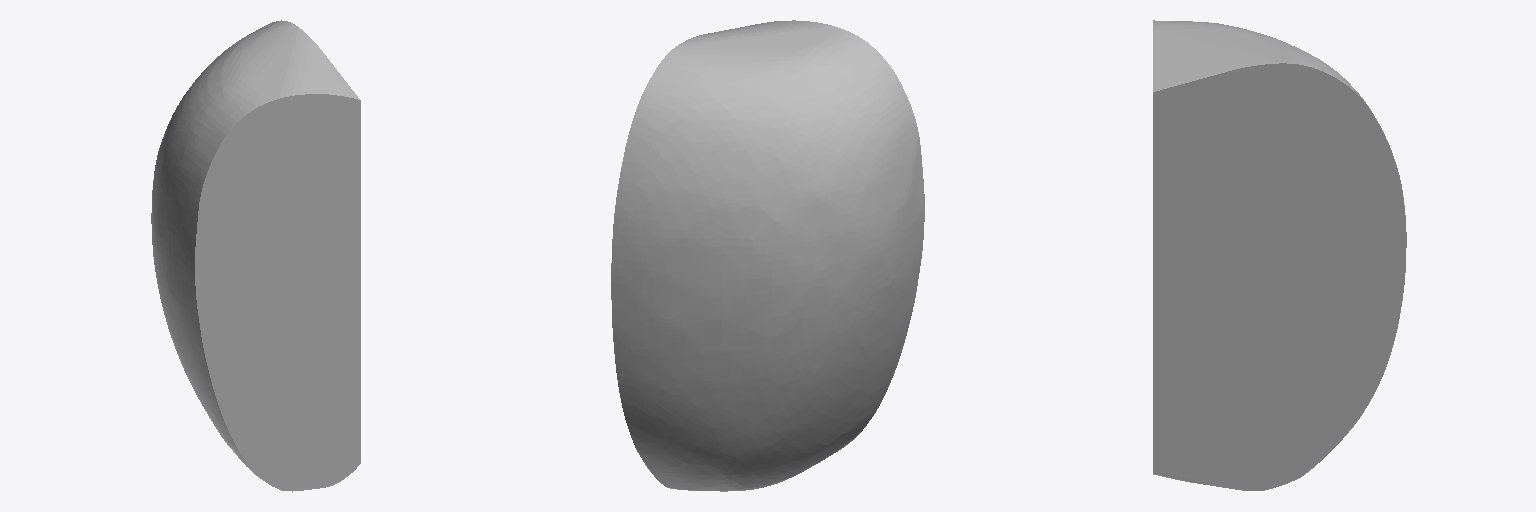
The robot description file, URDF, robot "root":
<robot name="root">
  <link name="link_convex_piece_0">
    <inertial>
      <origin xyz="0 0 0" rpy="0 0 0"/>
      <inertia ixx="5.31E-06" ixy="-8.89E-09" ixz="1.43E-07" iyy="3.85E-06" iyz="8.88E-08" izz="2.06E-06"/>
    </inertial>
    <visual>
      <origin xyz="0 0 0" rpy="0 0 0"/>
      <geometry>
        <mesh filename="convex_piece_0.obj" scale="1.0000E+00 1.0000E+00 1.0000E+00"/>
      </geometry>
      <material name="">
        <color rgba="7.50E-01 7.50E-01 7.50E-01 1"/>
      </material>
    </visual>
    <collision>
      <origin xyz="0 0 0" rpy="0 0 0"/>
      <geometry>
        <mesh filename="convex_piece_0.obj" scale="1.0000E+00 1.0000E+00 1.0000E+00"/>
      </geometry>
    </collision>
  </link>
  <link name="link_convex_piece_1">
    <inertial>
      <origin xyz="0 0 0" rpy="0 0 0"/>
      <inertia ixx="7.86E-06" ixy="1.13E-08" ixz="-5.75E-08" iyy="5.39E-06" iyz="-8.72E-08" izz="3.57E-06"/>
    </inertial>
    <visual>
      <origin xyz="0 0 0" rpy="0 0 0"/>
      <geometry>
        <mesh filename="convex_piece_1.obj" scale="1.0000E+00 1.0000E+00 1.0000E+00"/>
      </geometry>
      <material name="">
        <color rgba="7.50E-01 7.50E-01 7.50E-01 1"/>
      </material>
    </visual>
    <collision>
      <origin xyz="0 0 0" rpy="0 0 0"/>
      <geometry>
        <mesh filename="convex_piece_1.obj" scale="1.0000E+00 1.0000E+00 1.0000E+00"/>
      </geometry>
    </collision>
  </link>
  <joint name="link_convex_piece_1_joint" type="fixed">
    <origin xyz="0 0 0" rpy="0 0 0"/>
    <parent link="link_convex_piece_0"/>
    <child link="link_convex_piece_1"/>
  </joint>
</robot>

--- What the picture shows (computed from the rendered views, not written in the file) ---
The picture shows the robot from 3 angles, left to right: view 1: azimuth 30°, elevation 25°; view 2: azimuth 150°, elevation 25°; view 3: azimuth 270°, elevation 25°; orthographic projection.
Model root with 2 links and 1 joints (1 fixed), rooted at link_convex_piece_0, posed all joints at 0.
Visible links, largest first — view 1: link_convex_piece_0; view 2: link_convex_piece_0; view 3: link_convex_piece_0.
Link boxes in pixels (<box>): link_convex_piece_0: <box>151,20,360,491</box>; link_convex_piece_0: <box>611,20,924,491</box>; link_convex_piece_0: <box>1153,20,1406,490</box>.
Size in the robot's own frame: 0.0297 by 0.0374 by 0.0703 metres.
Meshes: 2 distinct files referenced, 1 mesh visuals loaded (1 OBJ); not drawn: 1 (reference not matched to a file when rendering).
